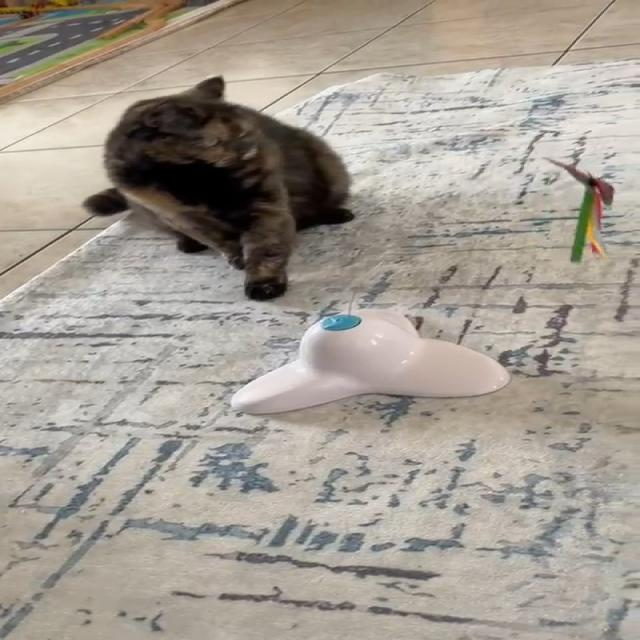authorized: (81, 74, 355, 301)
